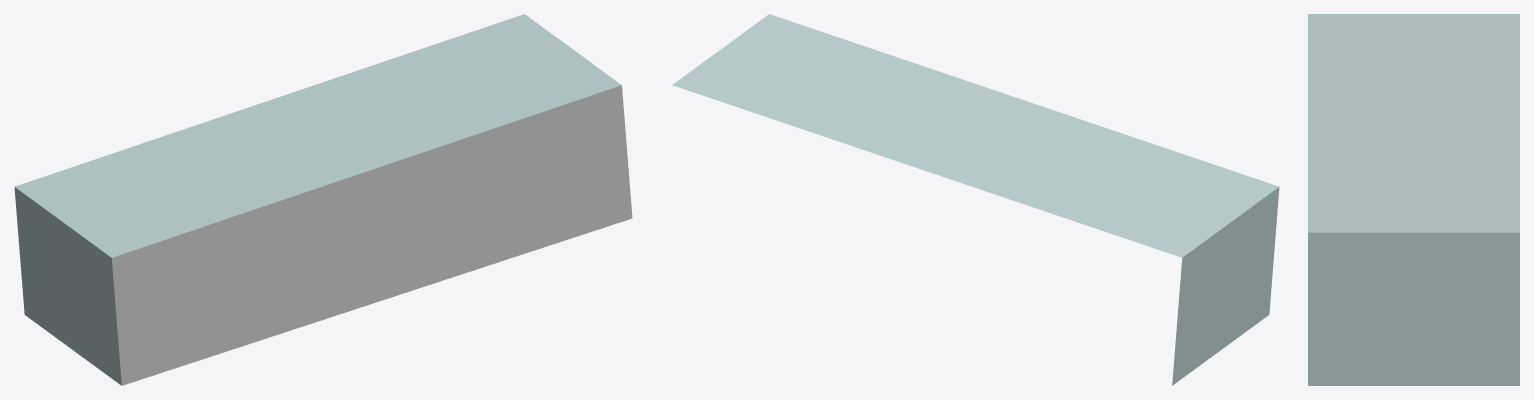
3 views of the same model, side by side, from view 1: azimuth 30°, elevation 25°; view 2: azimuth 150°, elevation 25°; view 3: azimuth 270°, elevation 25° (orthographic). The views are drawn at different scales.
Visible parts, largest first — view 1: 0_3_2_2_1_1_0_0_0; view 2: 0_3_2_2_1_1_0_0_0; view 3: 0_3_2_2_1_1_0_0_0.
Part boxes in pixels (left/top/right/bottom): 0_3_2_2_1_1_0_0_0: left=14, top=14, right=632, bottom=385; 0_3_2_2_1_1_0_0_0: left=672, top=14, right=1279, bottom=385; 0_3_2_2_1_1_0_0_0: left=1308, top=14, right=1519, bottom=385.
Size of the model in its own units: 9.28 by 3.04 by 3.
